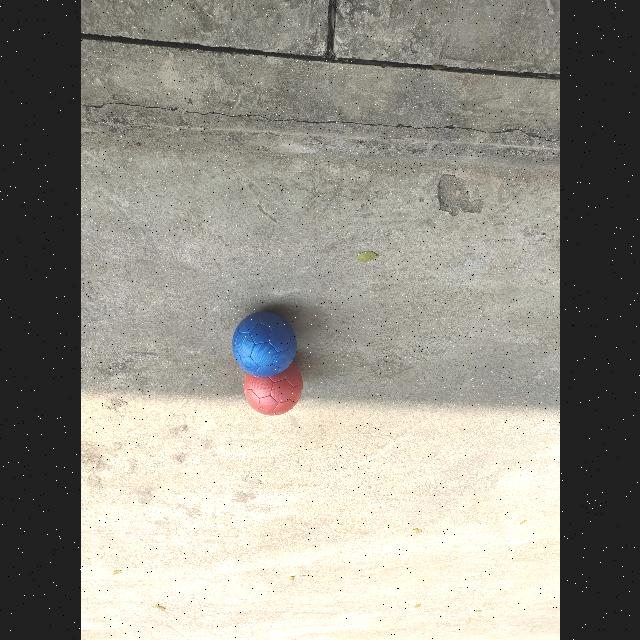B: (231, 312, 297, 377)
R: (243, 362, 302, 415)
